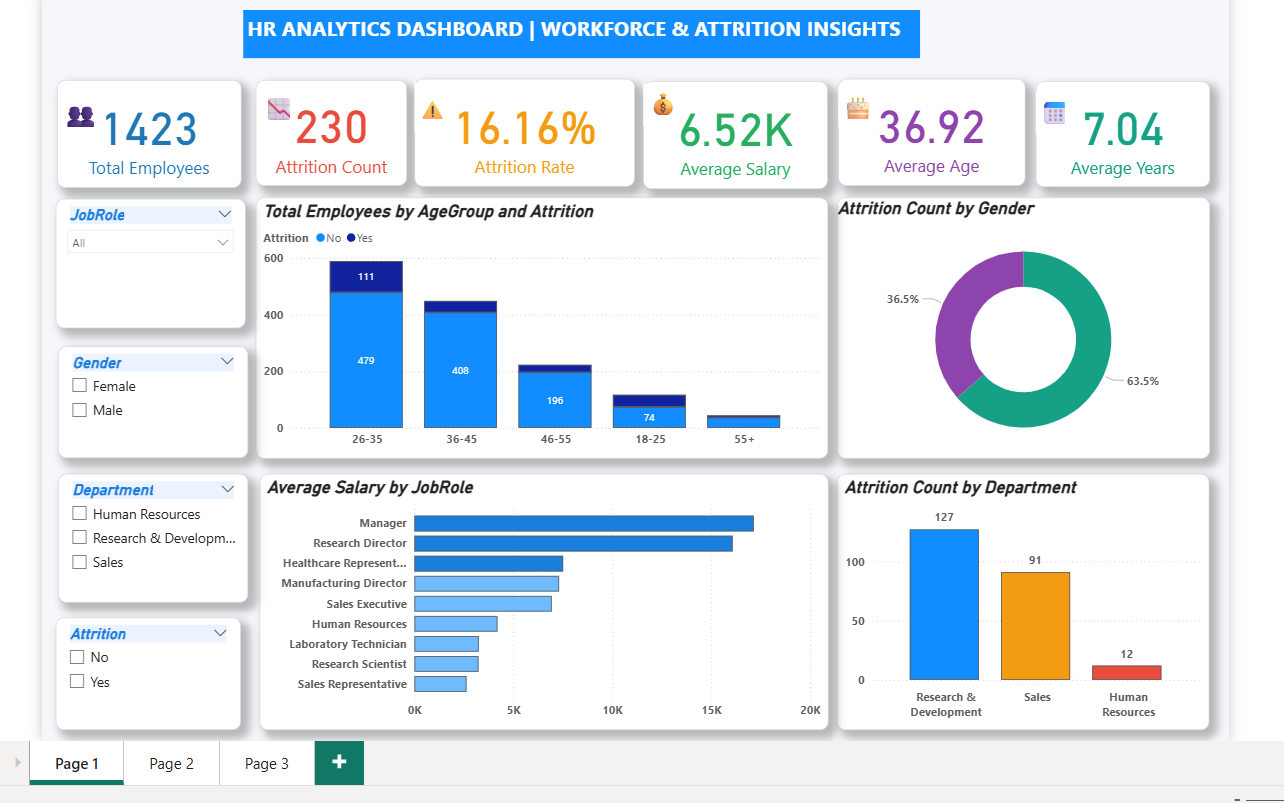

Layout of this report page (visuals, bound fields, positions):
{"tool":"powerbi","page":{"name":"Page 1","canvas":[1400,880],"ordinal":0},"visuals":[{"type":"card","fields":{"Values":["HR_Analytics.Total Employees"]},"box":[18,100.6,217.6,127.6],"z":0},{"type":"card","fields":{"Values":["HR_Analytics.Attrition Count"]},"box":[252.1,100.6,178.6,124.6],"z":1000},{"type":"card","fields":{"Values":["HR_Analytics.Attrition Rate"]},"box":[439.8,99.1,259.6,127.6],"z":2000},{"type":"card","fields":{"Values":["HR_Analytics.Average Salary"]},"box":[709.9,102.1,217.6,127.6],"z":3000},{"type":"card","fields":{"Values":["HR_Analytics.Average Age"]},"box":[939.5,99.1,220.6,126.1],"z":4000},{"type":"card","fields":{"Values":["HR_Analytics.Average Years"]},"box":[1172.2,102.1,205.6,124.6],"z":5000},{"type":"clusteredColumnChart","fields":{"Category":["HR_Analytics.Department"],"Y":["HR_Analytics.Attrition Count"]},"box":[937.8,564.7,439.4,302.3],"z":6000},{"type":"donutChart","fields":{"Category":["HR_Analytics.Gender"],"Y":["HR_Analytics.Attrition Count"]},"box":[938,238.6,439.8,307.7],"z":7000},{"type":"columnChart","fields":{"Category":["HR_Analytics.AgeGroup"],"Series":["HR_Analytics.Attrition"],"Y":["HR_Analytics.Total Employees"]},"box":[252.1,238.6,675.4,307.7],"z":8000},{"type":"barChart","fields":{"Category":["HR_Analytics.JobRole"],"Y":["HR_Analytics.Average Salary"]},"box":[256.6,564.7,670.9,302.3],"z":9000},{"type":"slicer","fields":{"Values":["HR_Analytics.Department"]},"box":[19.2,564.7,224.1,151.9],"z":10000},{"type":"slicer","fields":{"Values":["HR_Analytics.Gender"]},"box":[19.5,414.2,223.6,132.1],"z":11000},{"type":"slicer","fields":{"Values":["HR_Analytics.JobRole"]},"box":[16.5,240.1,223.6,153.1],"z":12000},{"type":"slicer","fields":{"Values":["HR_Analytics.Attrition"]},"box":[16.2,734.3,218.2,132.7],"z":13000},{"type":"textbox","box":[237.1,18,798.5,57],"z":14000},{"type":"textbox","box":[19.5,112.6,55.5,52.5],"z":15000},{"type":"textbox","box":[256.6,111.1,45,52.5],"z":16000},{"type":"textbox","box":[439.8,103.6,39,58.5],"z":17000},{"type":"textbox","box":[709.9,105.1,43.5,49.5],"z":18000},{"type":"textbox","box":[939.5,109.6,49.5,46.5],"z":19000},{"type":"textbox","box":[1172.2,115.6,39,49.5],"z":20000}]}

Visuals, with their boxes on the page's 1400x880 design canvas (x1, y1, x2, y2). These are canvas units, not pixel positions in the 1284x803 screenshot, which may show the page scaled, cropped or inside an application window:
card - HR_Analytics.Total Employees: bbox(18, 101, 236, 228)
card - HR_Analytics.Attrition Count: bbox(252, 101, 431, 225)
card - HR_Analytics.Attrition Rate: bbox(440, 99, 699, 227)
card - HR_Analytics.Average Salary: bbox(710, 102, 928, 230)
card - HR_Analytics.Average Age: bbox(940, 99, 1160, 225)
card - HR_Analytics.Average Years: bbox(1172, 102, 1378, 227)
clusteredColumnChart - HR_Analytics.Department x HR_Analytics.Attrition Count: bbox(938, 565, 1377, 867)
donutChart - HR_Analytics.Gender x HR_Analytics.Attrition Count: bbox(938, 239, 1378, 546)
columnChart - HR_Analytics.AgeGroup x HR_Analytics.Attrition: bbox(252, 239, 928, 546)
barChart - HR_Analytics.JobRole x HR_Analytics.Average Salary: bbox(257, 565, 928, 867)
slicer - HR_Analytics.Department: bbox(19, 565, 243, 717)
slicer - HR_Analytics.Gender: bbox(20, 414, 243, 546)
slicer - HR_Analytics.JobRole: bbox(16, 240, 240, 393)
slicer - HR_Analytics.Attrition: bbox(16, 734, 234, 867)
textbox: bbox(237, 18, 1036, 75)
textbox: bbox(20, 113, 75, 165)
textbox: bbox(257, 111, 302, 164)
textbox: bbox(440, 104, 479, 162)
textbox: bbox(710, 105, 753, 155)
textbox: bbox(940, 110, 989, 156)
textbox: bbox(1172, 116, 1211, 165)
